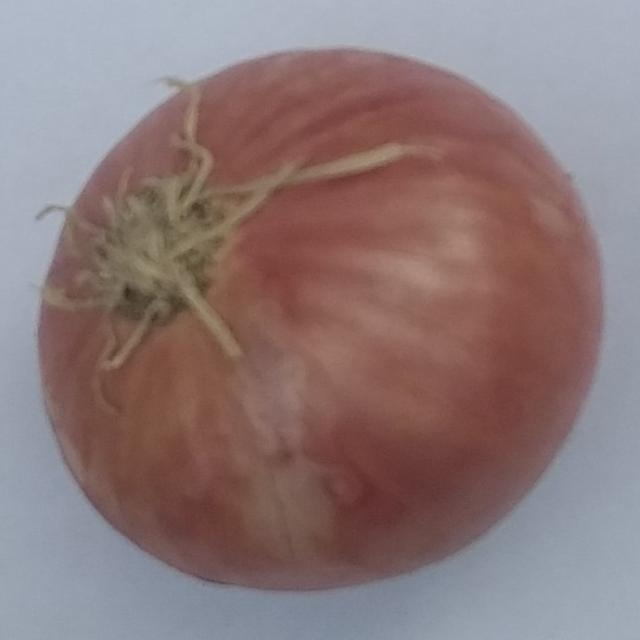onion: (36, 47, 603, 594)
